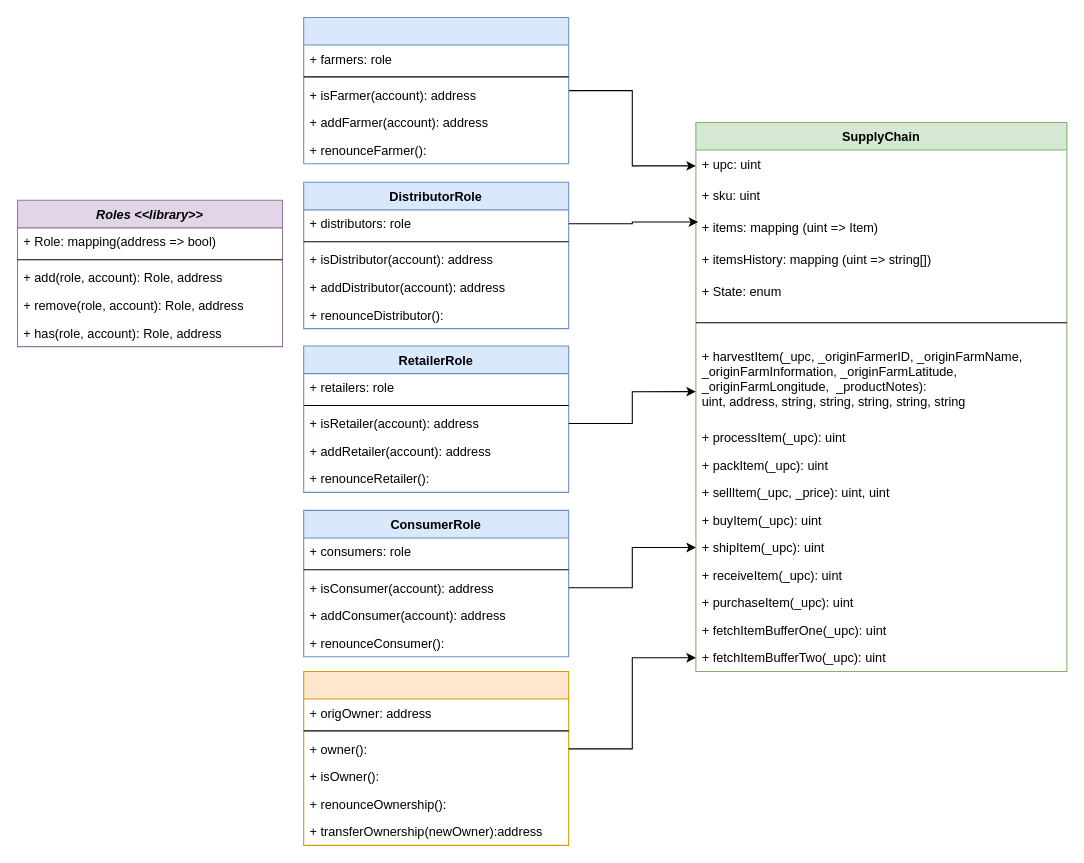
Image size: 1084x863. Some labels were removed from this diagram. Each missing label, with the box of its shape:
FarmerRole: (303, 16, 569, 164)
Ownable: (303, 670, 569, 845)
